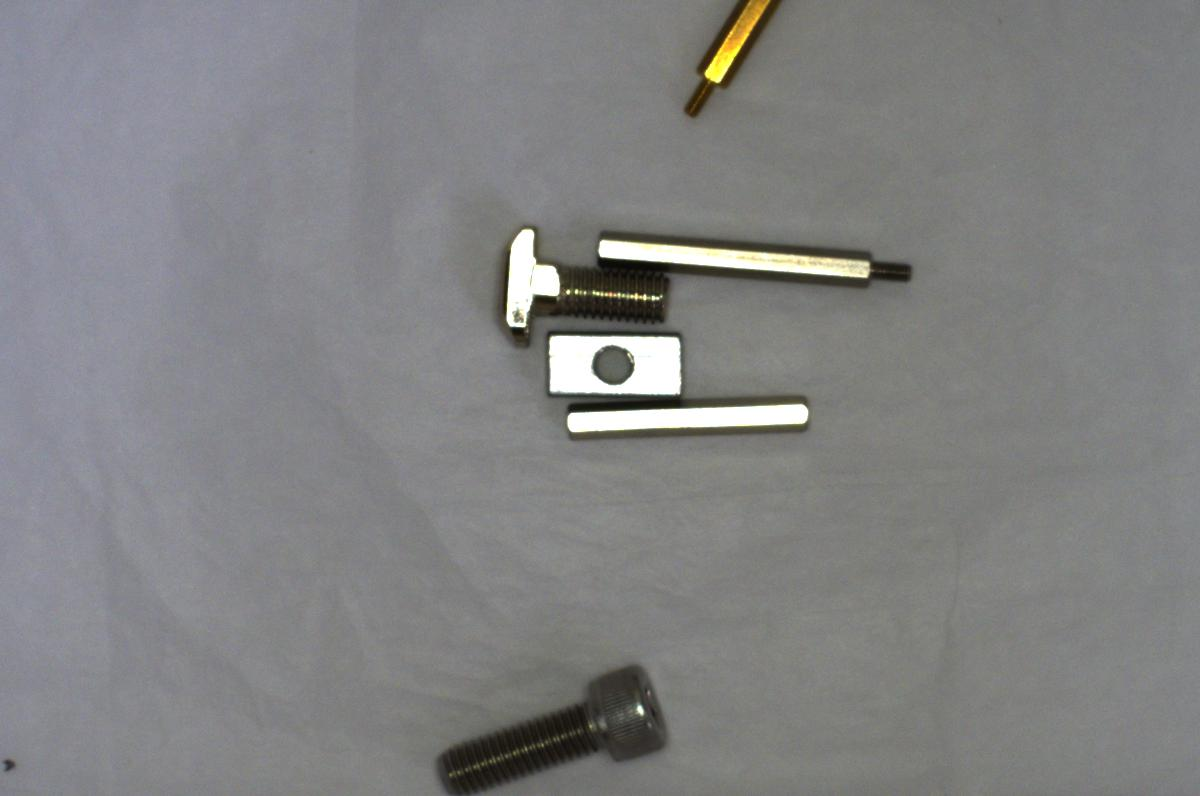Double hexagonal column: (553, 392, 815, 436)
Hexagon pillar: (672, 0, 797, 125)
Hexagon screw: (421, 645, 693, 792)
Hexagonal steel column: (594, 210, 926, 290)
Rectangular nut: (538, 325, 688, 402)
T-shaped screw: (481, 216, 682, 336)
